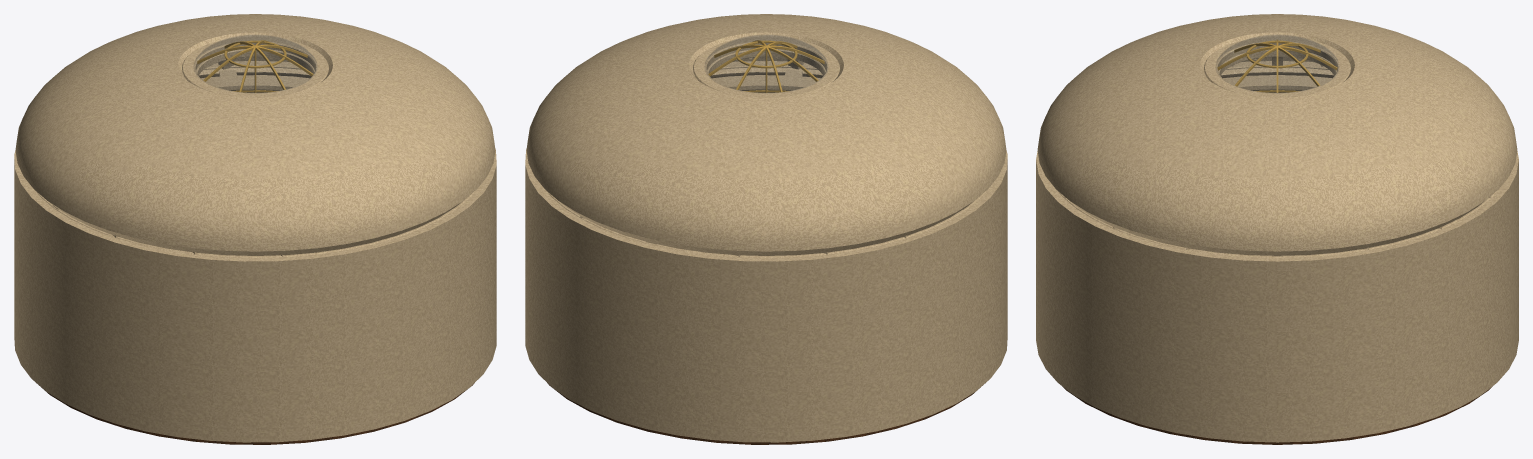
The model's file is london_rotunda_room.glb.
3 views of the same model, side by side, from view 1: azimuth 30°, elevation 25°; view 2: azimuth 150°, elevation 25°; view 3: azimuth 270°, elevation 25° (orthographic).
Visible parts, largest first — view 1: London_Drum_Travertine, London_Coffered_Dome, London_Skylight_Glass, London_Dome_Brass, London_Columns_And_Arches, London_Floor_Parquet; view 2: London_Drum_Travertine, London_Coffered_Dome, London_Skylight_Glass, London_Dome_Brass, London_Columns_And_Arches, London_Floor_Parquet; view 3: London_Drum_Travertine, London_Coffered_Dome, London_Skylight_Glass, London_Dome_Brass, London_Columns_And_Arches, London_Floor_Parquet.
Boxes of the visible parts, x1,y1,x2,y2 form: London_Drum_Travertine: (14,61,496,442); London_Coffered_Dome: (15,14,495,257); London_Skylight_Glass: (194,35,316,92); London_Dome_Brass: (197,40,313,92); London_Columns_And_Arches: (201,70,309,92); London_Floor_Parquet: (36,383,474,444); London_Drum_Travertine: (525,61,1007,442); London_Coffered_Dome: (526,14,1006,257); London_Skylight_Glass: (705,35,827,92); London_Dome_Brass: (708,40,824,92); London_Columns_And_Arches: (712,70,820,92); London_Floor_Parquet: (547,383,985,444); London_Drum_Travertine: (1036,61,1518,442); London_Coffered_Dome: (1037,14,1517,257); London_Skylight_Glass: (1216,35,1338,92); London_Dome_Brass: (1217,39,1337,92); London_Columns_And_Arches: (1223,75,1331,92); London_Floor_Parquet: (1062,386,1492,444).
Bounding box in the file's own units: 15.96 × 10.87 × 15.96.
12 materials, 9 textured.
